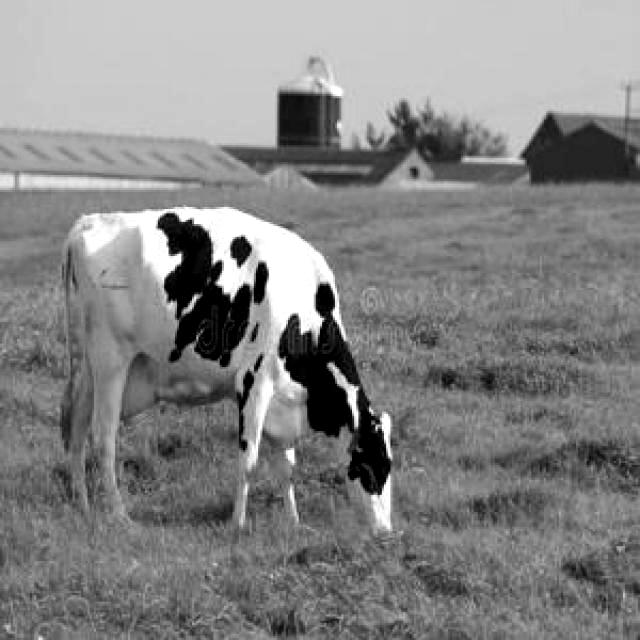COW: (62, 208, 391, 529)
